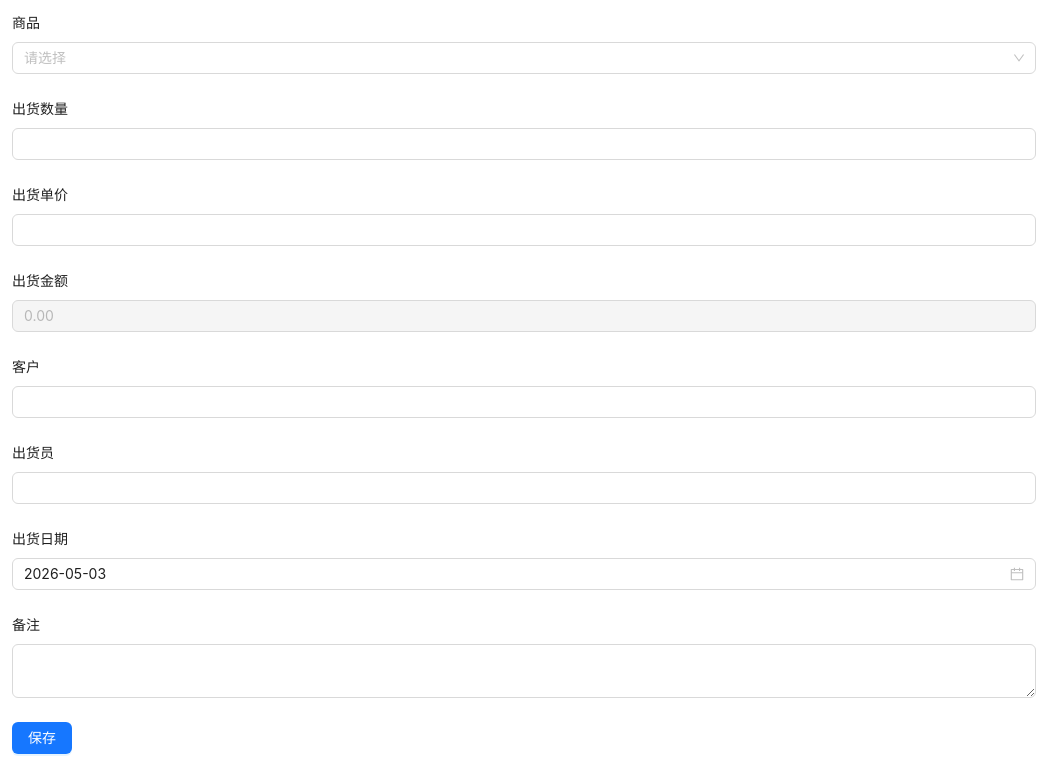
Test: SalesOrderForm — 字段校验 › 出货员为空 → 经办人不能为空
Click the dropdown labelled "商品" at [515, 58], box [24,43,1006,73]
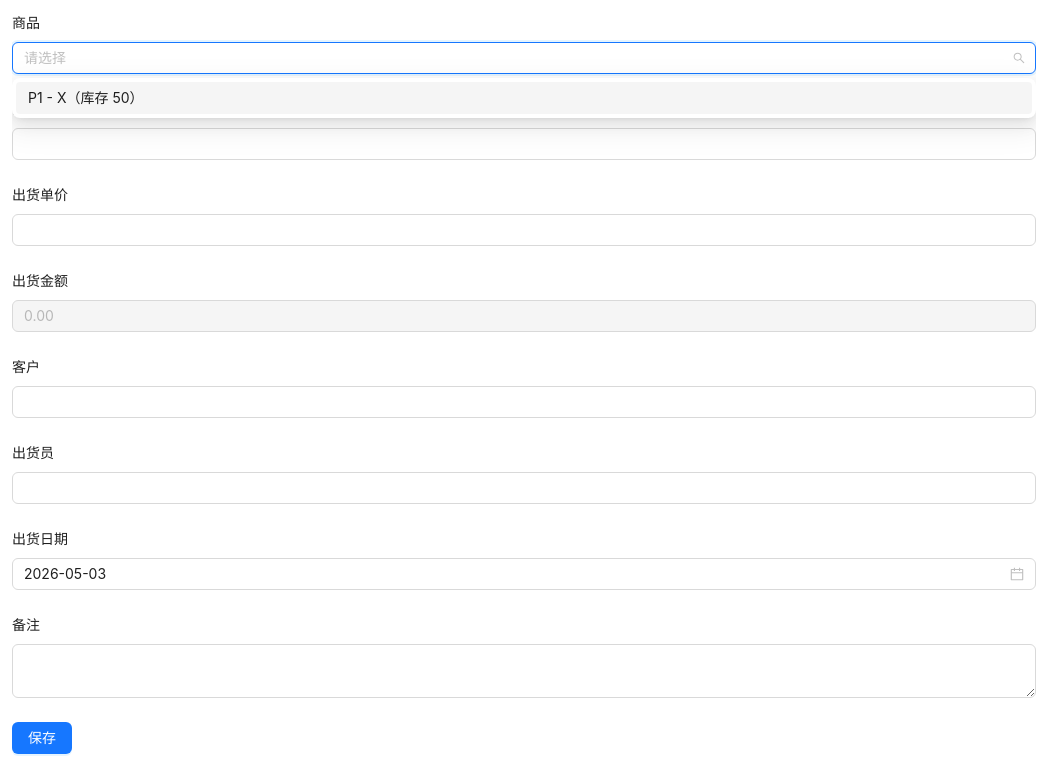
Click the element showing "P1 - X（库存 50）" at [524, 98], box [16,82,1032,114]
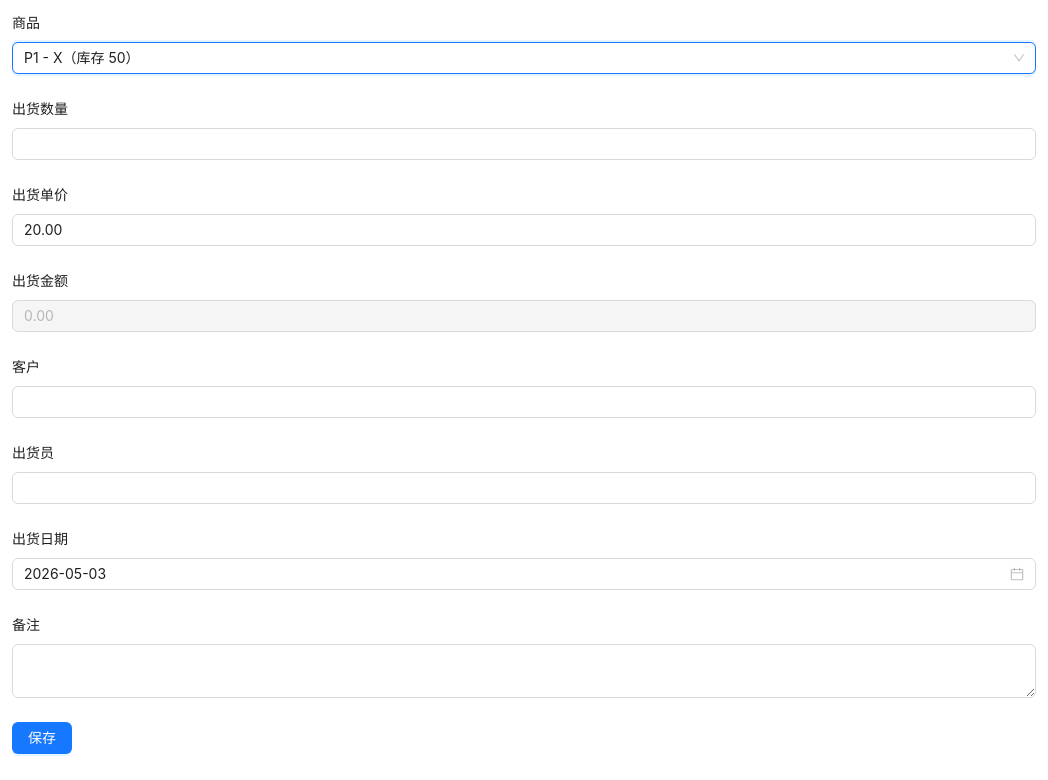
Type "5" into the number field labelled "出货数量" at [524, 144], box [13,129,1035,159]
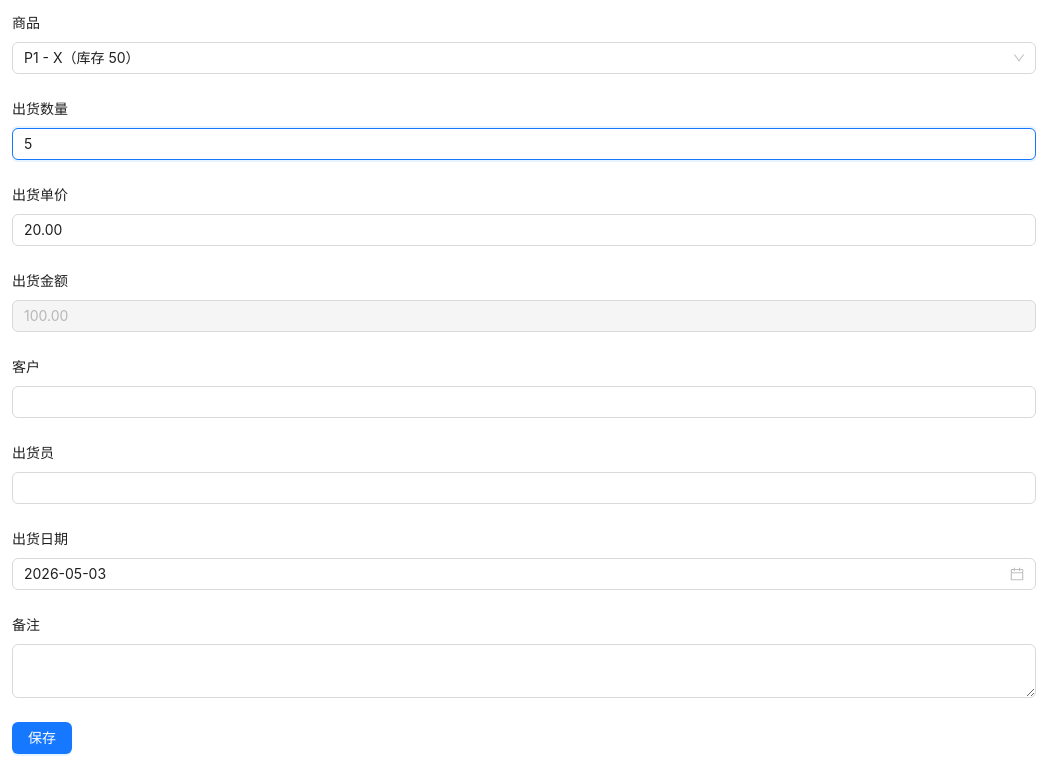
Replace the text in the number field labelled "出货单价" with "20" at [524, 230], box [13,215,1035,245]
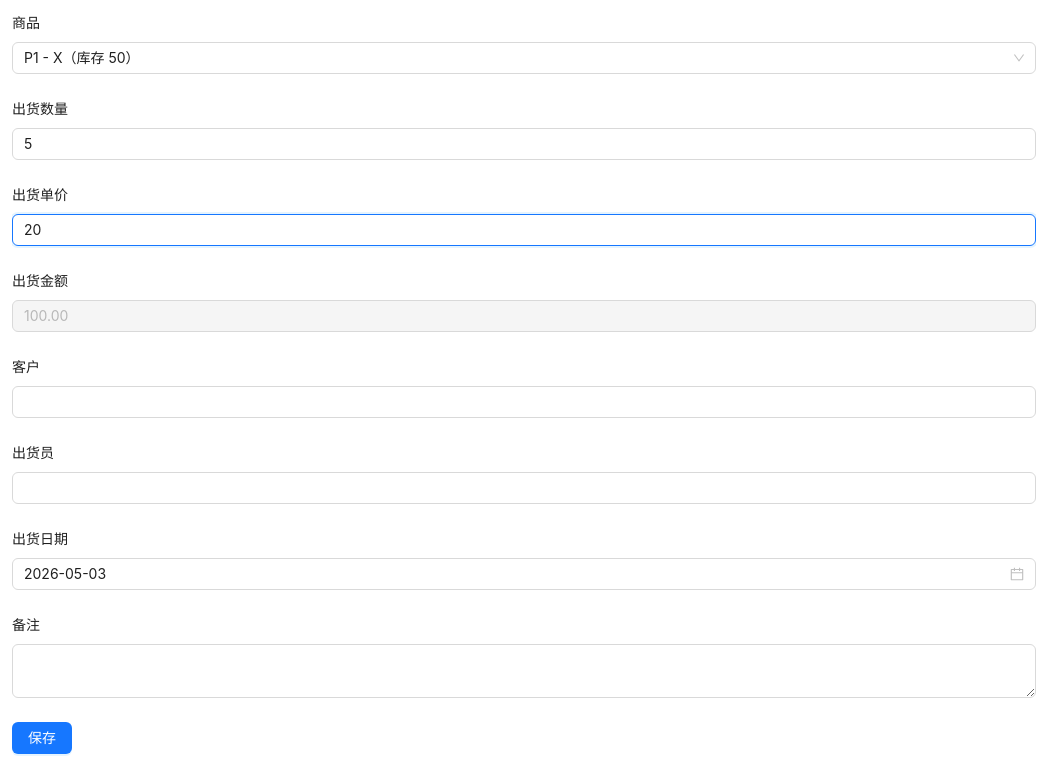
Type "王五" into the field labelled "客户" at [524, 402], box [12,386,1036,418]
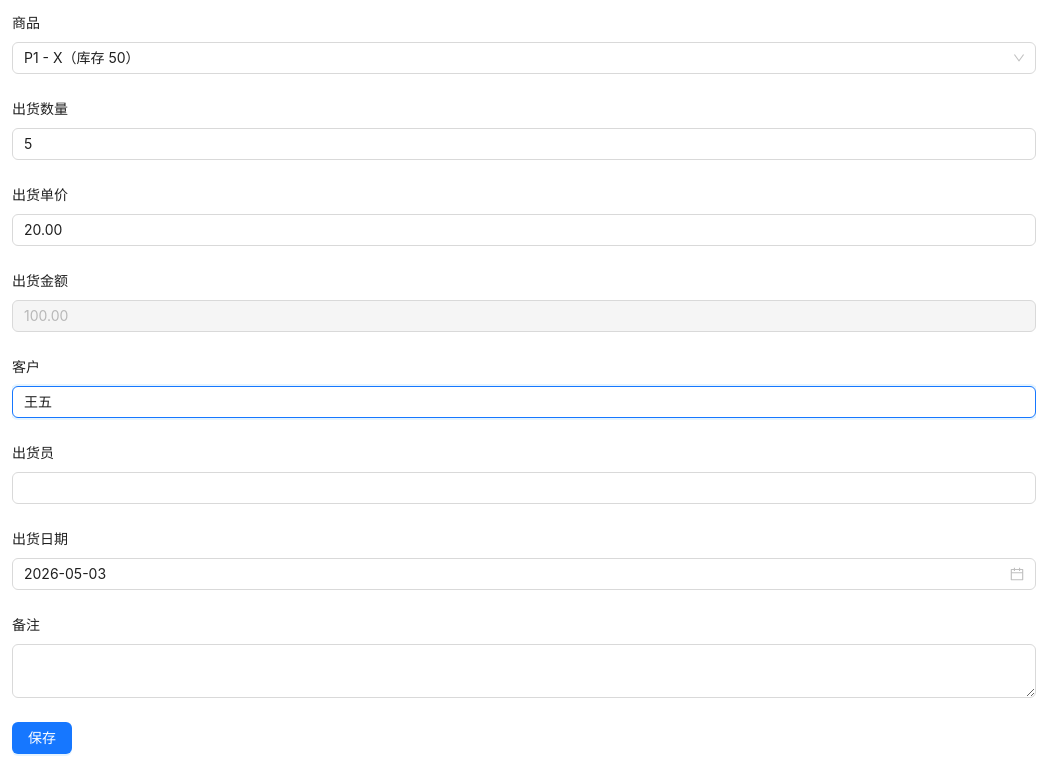
Click the button "保存" at [42, 738], box [12,722,72,754]
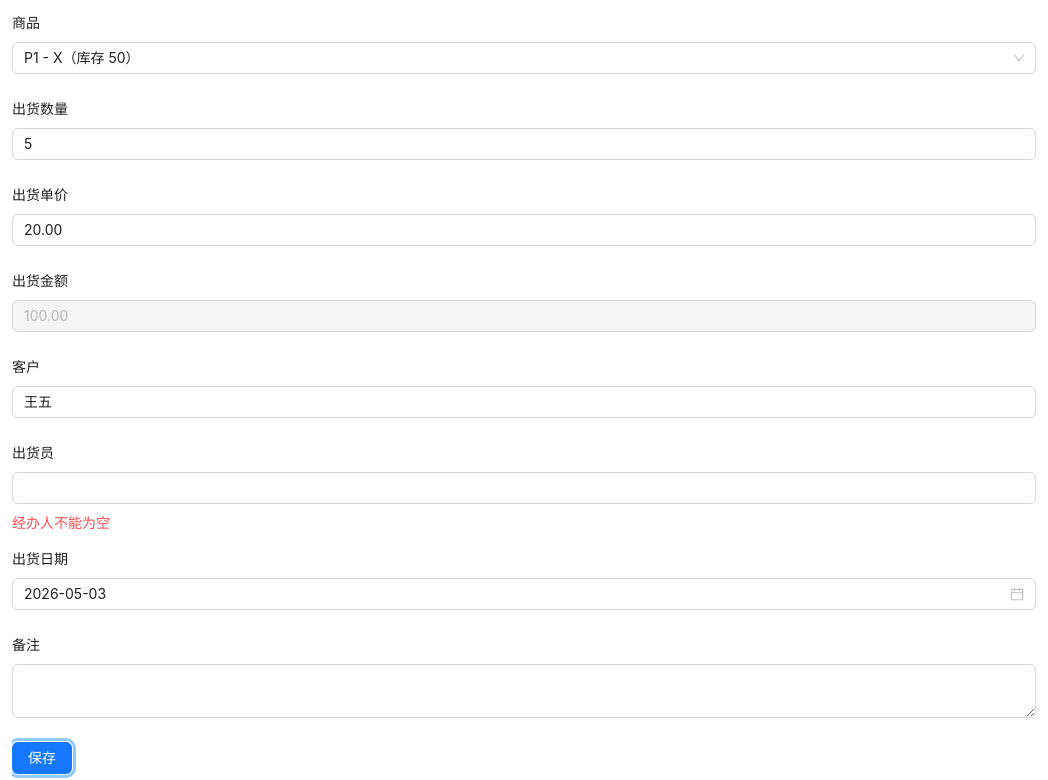
Expected: the text "经办人不能为空" is shown, [12,514,110,531]
